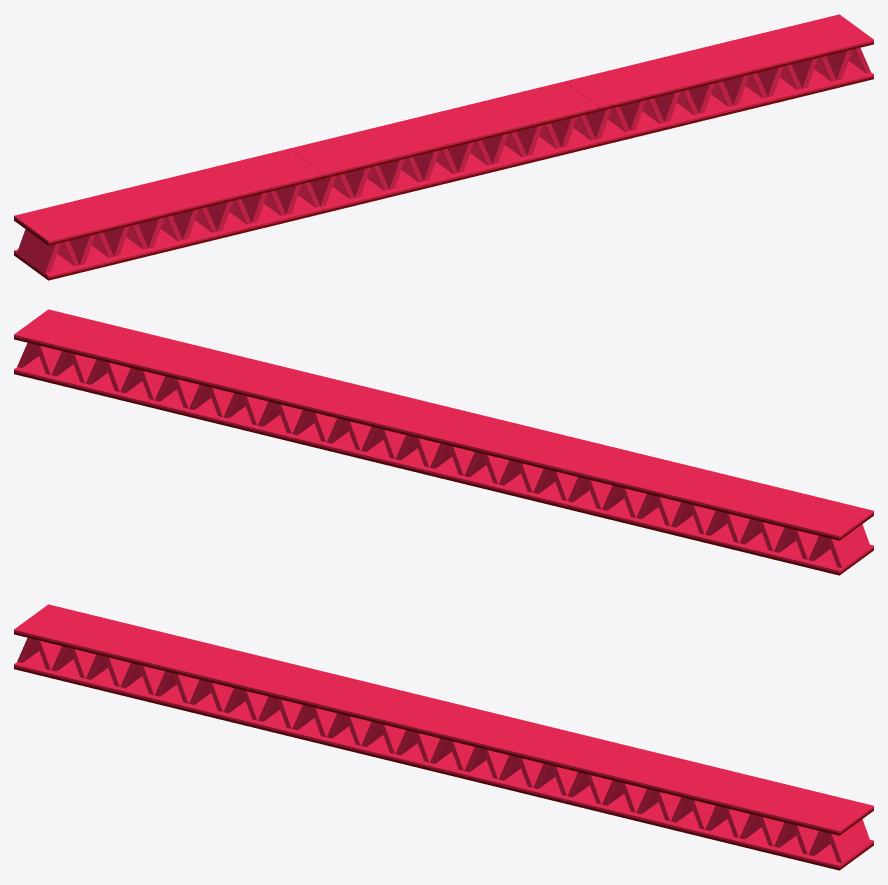
The model's file is Floor_One.fbx.
3 views of the same model, one above another, from view 1: azimuth 30°, elevation 25°; view 2: azimuth 150°, elevation 25°; view 3: azimuth 330°, elevation 25° (orthographic).
Visible parts, largest first — view 1: Cube.001, Cube.006, Cube.005; view 2: Cube.001, Cube.006, Cube.005; view 3: Cube.006, Cube.001, Cube.005.
Boxes of the visible parts, box(x1,y1,x2,y2) form: Cube.001: box(14, 148, 323, 280); Cube.006: box(564, 14, 873, 146); Cube.005: box(289, 81, 598, 213); Cube.001: box(564, 443, 873, 575); Cube.006: box(14, 309, 323, 441); Cube.005: box(289, 376, 598, 508); Cube.006: box(564, 738, 873, 870); Cube.001: box(14, 604, 323, 736); Cube.005: box(289, 671, 598, 803).
Bounding box in the file's own units: 3998 × 185 × 290.
